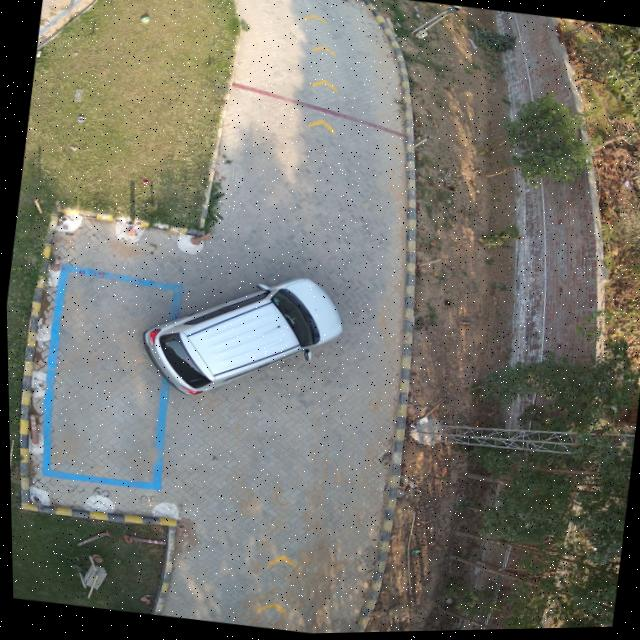car: (140, 279, 341, 398)
